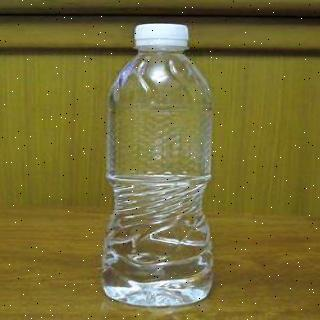Plastic-bottle: (98, 23, 222, 311)
